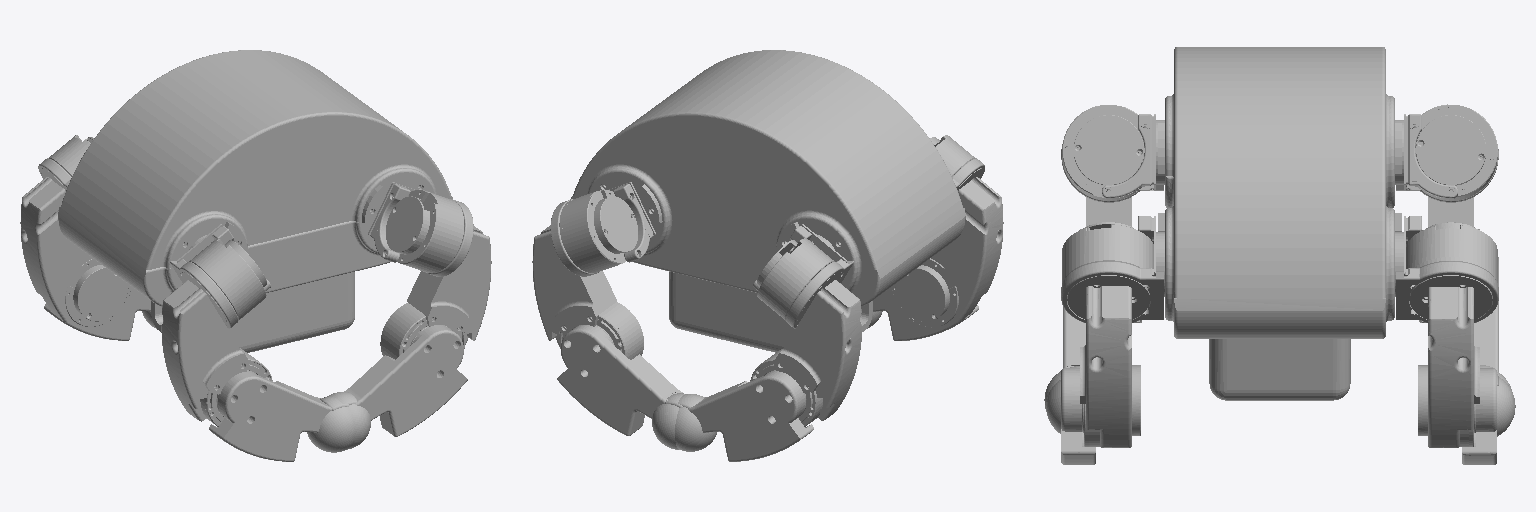
The robot description file, URDF, robot "rollingquad_description_2":
<?xml version="1.0"?>
<robot name="rollingquad_description_2">
  <link name="Lower_leg_with_foot_1">
    <!-- sw2robot density="502.769" inertia="solidworks" -->
    <visual>
      <origin xyz="0 0 0" rpy="0 0 0" />
      <geometry>
        <mesh filename="package://rollingquad_description_2/meshes/Lower_leg_with_foot_1.stl" />
      </geometry>
    <material name="Lower_leg_with_foot_1_material"><color rgba="0.749 0.749 0.749 1" /></material></visual>
    <collision>
      <origin xyz="0 0 0" rpy="0 0 0" />
      <geometry>
        <mesh filename="package://rollingquad_description_2/meshes/Lower_leg_with_foot_1.stl" />
      </geometry>
    </collision>
    <inertial>
      <origin xyz="-0.004572420743 -0.06026689144 0.002531898692" rpy="0 0 0" />
      <mass value="0.046425" />
      <inertia ixx="5.52993e-05" ixy="-7.15202e-06" ixz="3.19815e-08" iyy="1.01444e-05" iyz="1.51894e-06" izz="6.03228e-05" />
    </inertial>
  </link>
  <link name="Lower_leg_with_foot_2">
    <!-- sw2robot density="502.769" inertia="solidworks" -->
    <visual>
      <origin xyz="0 0 0" rpy="0 0 0" />
      <geometry>
        <mesh filename="package://rollingquad_description_2/meshes/Lower_leg_with_foot_1_2.stl" />
      </geometry>
    <material name="Lower_leg_with_foot_1_2_material"><color rgba="0.749 0.749 0.749 1" /></material></visual>
    <collision>
      <origin xyz="0 0 0" rpy="0 0 0" />
      <geometry>
        <mesh filename="package://rollingquad_description_2/meshes/Lower_leg_with_foot_1_2.stl" />
      </geometry>
    </collision>
    <inertial>
      <origin xyz="0.004572420743 -0.06026689144 -0.02728189869" rpy="0 0 0" />
      <mass value="0.046425" />
      <inertia ixx="5.52993e-05" ixy="7.15202e-06" ixz="3.19815e-08" iyy="1.01444e-05" iyz="-1.51894e-06" izz="6.03228e-05" />
    </inertial>
  </link>
  <link name="Lower_leg_with_foot_mirror_1">
    <!-- sw2robot density="502.769" inertia="solidworks" -->
    <visual>
      <origin xyz="0 0 0" rpy="0 0 0" />
      <geometry>
        <mesh filename="package://rollingquad_description_2/meshes/Lower_leg_with_foot_mirror_1.stl" />
      </geometry>
    <material name="Lower_leg_with_foot_mirror_1_material"><color rgba="0.749 0.749 0.749 1" /></material></visual>
    <collision>
      <origin xyz="0 0 0" rpy="0 0 0" />
      <geometry>
        <mesh filename="package://rollingquad_description_2/meshes/Lower_leg_with_foot_mirror_1.stl" />
      </geometry>
    </collision>
    <inertial>
      <origin xyz="0.004572417008 -0.06026689702 0.02728189911" rpy="0 0 0" />
      <mass value="0.046425" />
      <inertia ixx="5.52993e-05" ixy="7.15202e-06" ixz="-3.19831e-08" iyy="1.01444e-05" iyz="1.51894e-06" izz="6.03228e-05" />
    </inertial>
  </link>
  <link name="Lower_leg_with_foot_mirror_2">
    <!-- sw2robot density="502.769" inertia="solidworks" -->
    <visual>
      <origin xyz="0 0 0" rpy="0 0 0" />
      <geometry>
        <mesh filename="package://rollingquad_description_2/meshes/Lower_leg_with_foot_mirror_1_2.stl" />
      </geometry>
    <material name="Lower_leg_with_foot_mirror_1_2_material"><color rgba="0.749 0.749 0.749 1" /></material></visual>
    <collision>
      <origin xyz="0 0 0" rpy="0 0 0" />
      <geometry>
        <mesh filename="package://rollingquad_description_2/meshes/Lower_leg_with_foot_mirror_1_2.stl" />
      </geometry>
    </collision>
    <inertial>
      <origin xyz="-0.004572417008 -0.06026689702 -0.02728189911" rpy="0 0 0" />
      <mass value="0.046425" />
      <inertia ixx="5.52993e-05" ixy="-7.15202e-06" ixz="-3.19831e-08" iyy="1.01444e-05" iyz="-1.51894e-06" izz="6.03228e-05" />
    </inertial>
  </link>
  <link name="Upperleg_with_motor_1">
    <!-- sw2robot density="1462.87" inertia="solidworks" -->
    <visual>
      <origin xyz="0 0 0" rpy="0 0 0" />
      <geometry>
        <mesh filename="package://rollingquad_description_2/meshes/Upperleg_with_motor_1.stl" />
      </geometry>
    <material name="Upperleg_with_motor_1_material"><color rgba="0.749 0.749 0.749 1" /></material></visual>
    <collision>
      <origin xyz="0 0 0" rpy="0 0 0" />
      <geometry>
        <mesh filename="package://rollingquad_description_2/meshes/Upperleg_with_motor_1.stl" />
      </geometry>
    </collision>
    <inertial>
      <origin xyz="0.01124563179 -0.07026909311 -0.0002269412062" rpy="0 0 0" />
      <mass value="0.18907" />
      <inertia ixx="8.95846e-05" ixy="2.76161e-05" ixz="-7.82387e-08" iyy="6.20897e-05" iyz="3.01536e-07" izz="0.000132231" />
    </inertial>
  </link>
  <link name="Upperleg_with_motor_2">
    <!-- sw2robot density="1462.87" inertia="solidworks" -->
    <visual>
      <origin xyz="0 0 0" rpy="0 0 0" />
      <geometry>
        <mesh filename="package://rollingquad_description_2/meshes/Upperleg_with_motor_1_2.stl" />
      </geometry>
    <material name="Upperleg_with_motor_1_2_material"><color rgba="0.749 0.749 0.749 1" /></material></visual>
    <collision>
      <origin xyz="0 0 0" rpy="0 0 0" />
      <geometry>
        <mesh filename="package://rollingquad_description_2/meshes/Upperleg_with_motor_1_2.stl" />
      </geometry>
    </collision>
    <inertial>
      <origin xyz="-0.01019914867 -0.07085635206 0.0002269412062" rpy="0 0 0" />
      <mass value="0.18907" />
      <inertia ixx="8.95846e-05" ixy="-2.76161e-05" ixz="-7.82387e-08" iyy="6.20897e-05" iyz="-3.01536e-07" izz="0.000132231" />
    </inertial>
  </link>
  <link name="Upperleg_with_motor_mirror_1">
    <!-- sw2robot density="1462.87" inertia="solidworks" -->
    <visual>
      <origin xyz="0 0 0" rpy="0 0 0" />
      <geometry>
        <mesh filename="package://rollingquad_description_2/meshes/Upperleg_with_motor_mirror_1.stl" />
      </geometry>
    <material name="Upperleg_with_motor_mirror_1_material"><color rgba="0.749 0.749 0.749 1" /></material></visual>
    <collision>
      <origin xyz="0 0 0" rpy="0 0 0" />
      <geometry>
        <mesh filename="package://rollingquad_description_2/meshes/Upperleg_with_motor_mirror_1.stl" />
      </geometry>
    </collision>
    <inertial>
      <origin xyz="-0.01036906302 -0.07076414259 0.0006383642672" rpy="0 0 0" />
      <mass value="0.18907" />
      <inertia ixx="8.95837e-05" ixy="-2.76399e-05" ixz="-5.15227e-07" iyy="6.21076e-05" iyz="-6.53699e-07" izz="0.000132237" />
    </inertial>
  </link>
  <link name="Upperleg_with_motor_mirror_2">
    <!-- sw2robot density="1462.87" inertia="solidworks" -->
    <visual>
      <origin xyz="0 0 0" rpy="0 0 0" />
      <geometry>
        <mesh filename="package://rollingquad_description_2/meshes/Upperleg_with_motor_mirror_1_2.stl" />
      </geometry>
    <material name="Upperleg_with_motor_mirror_1_2_material"><color rgba="0.749 0.749 0.749 1" /></material></visual>
    <collision>
      <origin xyz="0 0 0" rpy="0 0 0" />
      <geometry>
        <mesh filename="package://rollingquad_description_2/meshes/Upperleg_with_motor_mirror_1_2.stl" />
      </geometry>
    </collision>
    <inertial>
      <origin xyz="0.01036906302 -0.07076414259 -0.0006383642672" rpy="0 0 0" />
      <mass value="0.18907" />
      <inertia ixx="8.95837e-05" ixy="2.76399e-05" ixz="-5.15227e-07" iyy="6.21076e-05" iyz="6.53699e-07" izz="0.000132237" />
    </inertial>
  </link>
  <link name="abduction_mirror_1">
    <!-- sw2robot density="2379.76" inertia="solidworks" -->
    <visual>
      <origin xyz="0 0 0" rpy="0 0 0" />
      <geometry>
        <mesh filename="package://rollingquad_description_2/meshes/abduction_mirror_1.stl" />
      </geometry>
    <material name="abduction_mirror_1_material"><color rgba="0.749 0.749 0.749 1" /></material></visual>
    <collision>
      <origin xyz="0 0 0" rpy="0 0 0" />
      <geometry>
        <mesh filename="package://rollingquad_description_2/meshes/abduction_mirror_1.stl" />
      </geometry>
    </collision>
    <inertial>
      <origin xyz="0.003103323135 -0.001896479874 -0.160009081" rpy="0 0 0" />
      <mass value="0.179903" />
      <inertia ixx="6.70875e-05" ixy="-8.2906e-06" ixz="-1.04081e-06" iyy="5.60847e-05" iyz="2.96831e-07" izz="4.28514e-05" />
    </inertial>
  </link>
  <link name="abduction_mirror_2">
    <!-- sw2robot density="2379.76" inertia="solidworks" -->
    <visual>
      <origin xyz="0 0 0" rpy="0 0 0" />
      <geometry>
        <mesh filename="package://rollingquad_description_2/meshes/abduction_mirror_1_2.stl" />
      </geometry>
    <material name="abduction_mirror_1_2_material"><color rgba="0.749 0.749 0.749 1" /></material></visual>
    <collision>
      <origin xyz="0 0 0" rpy="0 0 0" />
      <geometry>
        <mesh filename="package://rollingquad_description_2/meshes/abduction_mirror_1_2.stl" />
      </geometry>
    </collision>
    <inertial>
      <origin xyz="-0.003103323135 -0.001896479874 0.160009081" rpy="0 0 0" />
      <mass value="0.179903" />
      <inertia ixx="6.70875e-05" ixy="8.2906e-06" ixz="-1.04081e-06" iyy="5.60847e-05" iyz="-2.96831e-07" izz="4.28514e-05" />
    </inertial>
  </link>
  <link name="abduction_1">
    <!-- sw2robot density="2380.41" inertia="solidworks" -->
    <visual>
      <origin xyz="0 0 0" rpy="0 0 0" />
      <geometry>
        <mesh filename="package://rollingquad_description_2/meshes/abduction_1.stl" />
      </geometry>
    <material name="abduction_1_material"><color rgba="0.749 0.749 0.749 1" /></material></visual>
    <collision>
      <origin xyz="0 0 0" rpy="0 0 0" />
      <geometry>
        <mesh filename="package://rollingquad_description_2/meshes/abduction_1.stl" />
      </geometry>
    </collision>
    <inertial>
      <origin xyz="0.002846868528 -0.001746823351 0.1599504248" rpy="0 0 0" />
      <mass value="0.179903" />
      <inertia ixx="6.77093e-05" ixy="-8.43425e-06" ixz="1.18229e-06" iyy="5.65794e-05" iyz="-7.77162e-07" izz="4.38514e-05" />
    </inertial>
  </link>
  <link name="abduction_9">
    <!-- sw2robot density="2380.41" inertia="solidworks" -->
    <visual>
      <origin xyz="0 0 0" rpy="0 0 0" />
      <geometry>
        <mesh filename="package://rollingquad_description_2/meshes/abduction_1_2.stl" />
      </geometry>
    <material name="abduction_1_2_material"><color rgba="0.749 0.749 0.749 1" /></material></visual>
    <collision>
      <origin xyz="0 0 0" rpy="0 0 0" />
      <geometry>
        <mesh filename="package://rollingquad_description_2/meshes/abduction_1_2.stl" />
      </geometry>
    </collision>
    <inertial>
      <origin xyz="-0.002846868528 -0.001746823351 -0.1599504248" rpy="0 0 0" />
      <mass value="0.179903" />
      <inertia ixx="6.77093e-05" ixy="8.43425e-06" ixz="1.18229e-06" iyy="5.65794e-05" iyz="7.77162e-07" izz="4.38514e-05" />
    </inertial>
  </link>
  <link name="base_link">
    <!-- sw2robot density="1237.77" inertia="solidworks" -->
    <visual>
      <origin xyz="0 0 0" rpy="0 0 0" />
      <geometry>
        <mesh filename="package://rollingquad_description_2/meshes/torso_2.stl" />
      </geometry>
    <material name="torso_2_material"><color rgba="0.749 0.749 0.749 1" /></material></visual>
    <collision>
      <origin xyz="0 0 0" rpy="0 0 0" />
      <geometry>
        <mesh filename="package://rollingquad_description_2/meshes/torso_2.stl" />
      </geometry>
    </collision>
    <inertial>
      <origin xyz="-0.000349048829 -2.267291516e-05 -0.0168232962" rpy="0 0 0" />
      <mass value="1.47556" />
      <inertia ixx="0.00473904" ixy="1.23727e-08" ixz="7.69713e-05" iyy="0.00838848" iyz="-7.00545e-07" izz="0.00826464" />
    </inertial>
  </link>
  <joint name="torso_2__abduction_mirror_1" type="revolute">
    <origin xyz="0.07520017026 -0.06500080302 -3.154367054e-07" rpy="1.5708 1.019610379e-06 2.619343745e-06" />
    <parent link="base_link" />
    <child link="abduction_mirror_1" />
    <axis xyz="0 0 1" />
    <limit lower="-1.745329252" upper="1.902408885" effort="10" velocity="3.14" />
    <!-- mates: CONCENTRIC, COINCIDENT, CONCENTRIC, COINCIDENT -->
    <!-- sw2robot-note: geo: free rotation about mate axis (1 DOF) -->
  </joint>
  <joint name="torso_2__abduction_mirror_2" type="revolute">
    <origin xyz="-0.07520017026 0.06500080302 3.154367054e-07" rpy="1.5708 1.019610379e-06 2.619343745e-06" />
    <parent link="base_link" />
    <child link="abduction_mirror_2" />
    <axis xyz="0 0 -1" />
    <limit lower="-1.745329252" upper="1.902408885" effort="10" velocity="3.14" />
    <!-- mates: CONCENTRIC, COINCIDENT, CONCENTRIC, COINCIDENT -->
    <!-- sw2robot-note: geo: free rotation about mate axis (1 DOF) -->
  </joint>
  <joint name="torso_2__abduction_1" type="revolute">
    <origin xyz="0.07519982974 0.06500119697 1.620873044e-07" rpy="1.5708 1.019610379e-06 2.619343745e-06" />
    <parent link="base_link" />
    <child link="abduction_1" />
    <axis xyz="0 0 1" />
    <limit lower="-1.74533" upper="1.90241" effort="10" velocity="3.14" />
    <!-- mates: CONCENTRIC, COINCIDENT, CONCENTRIC, COINCIDENT -->
    <!-- sw2robot-note: geo: free rotation about mate axis (1 DOF) -->
  </joint>
  <joint name="torso_2__abduction_9" type="revolute">
    <origin xyz="-0.07519982974 -0.06500119697 -1.620873044e-07" rpy="1.5708 1.019610379e-06 2.619343745e-06" />
    <parent link="base_link" />
    <child link="abduction_9" />
    <axis xyz="0 0 -1" />
    <limit lower="-1.74533" upper="1.90241" effort="10" velocity="3.14" />
    <!-- mates: CONCENTRIC, COINCIDENT, CONCENTRIC, COINCIDENT -->
    <!-- sw2robot-note: geo: free rotation about mate axis (1 DOF) -->
  </joint>
  <joint name="abduction_mirror_1__Upperleg_with_motor_2" type="revolute">
    <origin xyz="0.01460716031 -0.008197156067 -0.162001" rpy="0 0 0" />
    <parent link="abduction_mirror_1" />
    <child link="Upperleg_with_motor_2" />
    <axis xyz="0.87206927 -0.48938245 0" />
    <limit lower="-0.5236" upper="3.66519" effort="10" velocity="3.14" />
    <!-- mates: CONCENTRIC, COINCIDENT, CONCENTRIC, COINCIDENT -->
    <!-- sw2robot-note: geo: free rotation about mate axis (1 DOF) -->
  </joint>
  <joint name="abduction_mirror_2__Upperleg_with_motor_1" type="revolute">
    <origin xyz="-0.01565364344 -0.008784415009 0.162001" rpy="0 0 0" />
    <parent link="abduction_mirror_2" />
    <child link="Upperleg_with_motor_1" />
    <axis xyz="-0.87206927 -0.48938245 0" />
    <limit lower="-0.5236" upper="3.66519" effort="10" velocity="3.14" />
    <!-- mates: COINCIDENT, CONCENTRIC, COINCIDENT, CONCENTRIC -->
    <!-- sw2robot-note: geo: free rotation about mate axis (1 DOF) -->
  </joint>
  <joint name="abduction_1__Upperleg_with_motor_mirror_1" type="revolute">
    <origin xyz="0.01460716031 -0.008197156067 0.162001" rpy="0 0 0" />
    <parent link="abduction_1" />
    <child link="Upperleg_with_motor_mirror_1" />
    <axis xyz="-0.87206927 0.48938245 0" />
    <limit lower="-0.5236" upper="3.66519" effort="10" velocity="3.14" />
    <!-- mates: COINCIDENT, CONCENTRIC, COINCIDENT, CONCENTRIC -->
    <!-- sw2robot-note: geo: free rotation about mate axis (1 DOF) -->
  </joint>
  <joint name="abduction_9__Upperleg_with_motor_mirror_2" type="revolute">
    <origin xyz="-0.01460716031 -0.008197156067 -0.162001" rpy="0 0 0" />
    <parent link="abduction_9" />
    <child link="Upperleg_with_motor_mirror_2" />
    <axis xyz="0.87206927 0.48938245 0" />
    <limit lower="-0.5236" upper="3.66519" effort="10" velocity="3.14" />
    <!-- mates: COINCIDENT, CONCENTRIC, COINCIDENT, CONCENTRIC -->
    <!-- sw2robot-note: geo: free rotation about mate axis (1 DOF) -->
  </joint>
  <joint name="Upperleg_with_motor_2__Lower_leg_with_foot_2" type="revolute">
    <origin xyz="-0.01377588703 -0.07676775722 0.01075" rpy="0 0 0" />
    <parent link="Upperleg_with_motor_2" />
    <child link="Lower_leg_with_foot_2" />
    <axis xyz="0 0 -1" />
    <limit lower="0.1745329252" upper="2.094395102" effort="10" velocity="3.14" />
    <!-- mates: COINCIDENT, CONCENTRIC, COINCIDENT, CONCENTRIC -->
    <!-- sw2robot-note: geo: free rotation about mate axis (1 DOF) -->
  </joint>
  <joint name="Upperleg_with_motor_1__Lower_leg_with_foot_1" type="revolute">
    <origin xyz="0.01482237016 -0.07618049827 0.014" rpy="0 0 0" />
    <parent link="Upperleg_with_motor_1" />
    <child link="Lower_leg_with_foot_1" />
    <axis xyz="0 0 1" />
    <limit lower="0.1745329252" upper="2.094395102" effort="10" velocity="3.14" />
    <!-- mates: COINCIDENT, CONCENTRIC, COINCIDENT, CONCENTRIC -->
    <!-- sw2robot-note: geo: free rotation about mate axis (1 DOF) -->
  </joint>
  <joint name="Upperleg_with_motor_mirror_1__Lower_leg_with_foot_mirror_1" type="revolute">
    <origin xyz="-0.01395029982 -0.07666988132 -0.00975" rpy="0 0 0" />
    <parent link="Upperleg_with_motor_mirror_1" />
    <child link="Lower_leg_with_foot_mirror_1" />
    <axis xyz="0 0 -1" />
    <limit lower="0.17453" upper="2.0944" effort="10" velocity="3.14" />
    <!-- mates: COINCIDENT, CONCENTRIC, COINCIDENT, CONCENTRIC -->
    <!-- sw2robot-note: geo: free rotation about mate axis (1 DOF) -->
  </joint>
  <joint name="Upperleg_with_motor_mirror_2__Lower_leg_with_foot_mirror_2" type="revolute">
    <origin xyz="0.01395029982 -0.07666988132 0.00975" rpy="0 0 0" />
    <parent link="Upperleg_with_motor_mirror_2" />
    <child link="Lower_leg_with_foot_mirror_2" />
    <axis xyz="0 0 1" />
    <limit lower="0.17453" upper="2.0944" effort="10" velocity="3.14" />
    <!-- mates: COINCIDENT, CONCENTRIC, COINCIDENT, CONCENTRIC -->
    <!-- sw2robot-note: geo: free rotation about mate axis (1 DOF) -->
  </joint>
</robot>

--- What the picture shows (computed from the rendered views, not written in the file) ---
3 views of the same robot in one strip: view 1: azimuth 30°, elevation 25°; view 2: azimuth 150°, elevation 25°; view 3: azimuth 270°, elevation 25° (orthographic).
Robot: rollingquad_description_2 — 13 links, 12 joints (12 revolute); root link base_link; default pose: joints at zero except 4 at the middle of their limits (Upperleg_with_motor_2__Lower_leg_with_foot_2 = 1.13, Upperleg_with_motor_1__Lower_leg_with_foot_1 = 1.13, Upperleg_with_motor_mirror_1__Lower_leg_with_foot_mirror_1 = 1.13, Upperleg_with_motor_mirror_2__Lower_leg_with_foot_mirror_2 = 1.13).
Links seen in each view (by area): view 1: base_link, Lower_leg_with_foot_mirror_1, Upperleg_with_motor_mirror_2, Upperleg_with_motor_1, Lower_leg_with_foot_1, abduction_1, Upperleg_with_motor_mirror_1, abduction_mirror_2, Lower_leg_with_foot_mirror_2, abduction_9; view 2: base_link, Lower_leg_with_foot_2, Upperleg_with_motor_1, Upperleg_with_motor_mirror_2, Lower_leg_with_foot_mirror_2, abduction_mirror_1, Upperleg_with_motor_2, abduction_9, Lower_leg_with_foot_1, abduction_mirror_2; view 3: base_link, Upperleg_with_motor_mirror_1, Upperleg_with_motor_2, abduction_9, abduction_mirror_2, abduction_1, abduction_mirror_1, Lower_leg_with_foot_mirror_1, Lower_leg_with_foot_2, Lower_leg_with_foot_mirror_2, Lower_leg_with_foot_1, Upperleg_with_motor_mirror_2 (+1 smaller).
Boxes of the visible links, left/top/right/bottom form: base_link: left=58, top=50, right=452, bottom=352; Lower_leg_with_foot_mirror_1: left=307, top=325, right=467, bottom=452; Upperleg_with_motor_mirror_2: left=20, top=169, right=130, bottom=326; Upperleg_with_motor_1: left=161, top=272, right=272, bottom=426; Lower_leg_with_foot_1: left=209, top=371, right=370, bottom=461; abduction_1: left=368, top=182, right=473, bottom=276; Upperleg_with_motor_mirror_1: left=380, top=226, right=491, bottom=359; abduction_mirror_2: left=170, top=224, right=270, bottom=328; Lower_leg_with_foot_mirror_2: left=44, top=286, right=150, bottom=340; abduction_9: left=38, top=135, right=93, bottom=188; base_link: left=571, top=50, right=965, bottom=352; Lower_leg_with_foot_2: left=557, top=325, right=716, bottom=451; Upperleg_with_motor_1: left=892, top=168, right=1003, bottom=327; Upperleg_with_motor_mirror_2: left=750, top=272, right=861, bottom=426; Lower_leg_with_foot_mirror_2: left=652, top=371, right=813, bottom=461; abduction_mirror_1: left=551, top=182, right=655, bottom=276; Upperleg_with_motor_2: left=532, top=225, right=643, bottom=358; abduction_9: left=753, top=224, right=853, bottom=328; Lower_leg_with_foot_1: left=873, top=287, right=978, bottom=340; abduction_mirror_2: left=930, top=135, right=984, bottom=188; base_link: left=1158, top=47, right=1401, bottom=400; Upperleg_with_motor_mirror_1: left=1067, top=275, right=1149, bottom=447; Upperleg_with_motor_2: left=1410, top=275, right=1492, bottom=447; abduction_9: left=1395, top=104, right=1498, bottom=202; abduction_mirror_2: left=1061, top=105, right=1164, bottom=202; abduction_1: left=1061, top=216, right=1164, bottom=322; abduction_mirror_1: left=1395, top=216, right=1498, bottom=322; Lower_leg_with_foot_mirror_1: left=1044, top=365, right=1095, bottom=464; Lower_leg_with_foot_2: left=1462, top=365, right=1511, bottom=464; Lower_leg_with_foot_mirror_2: left=1474, top=257, right=1515, bottom=436; Lower_leg_with_foot_1: left=1046, top=307, right=1085, bottom=433; Upperleg_with_motor_mirror_2: left=1419, top=197, right=1479, bottom=322.
Bounding box of the posed robot: 0.2488 × 0.267 × 0.2296 m (x, y, z).
13 mesh visuals loaded from 13 distinct referenced files (13 binary STL).
